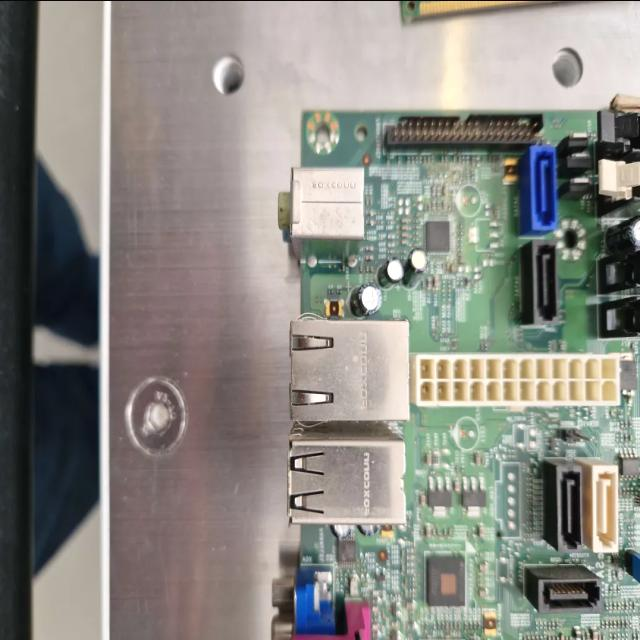C: (606, 215, 640, 248), (349, 283, 379, 315), (404, 249, 428, 287), (378, 258, 402, 288)
F: (292, 318, 411, 421), (290, 424, 408, 522), (279, 167, 367, 253)
